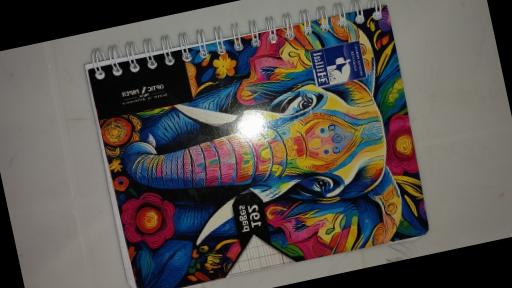notebook: (79, 0, 437, 288)
